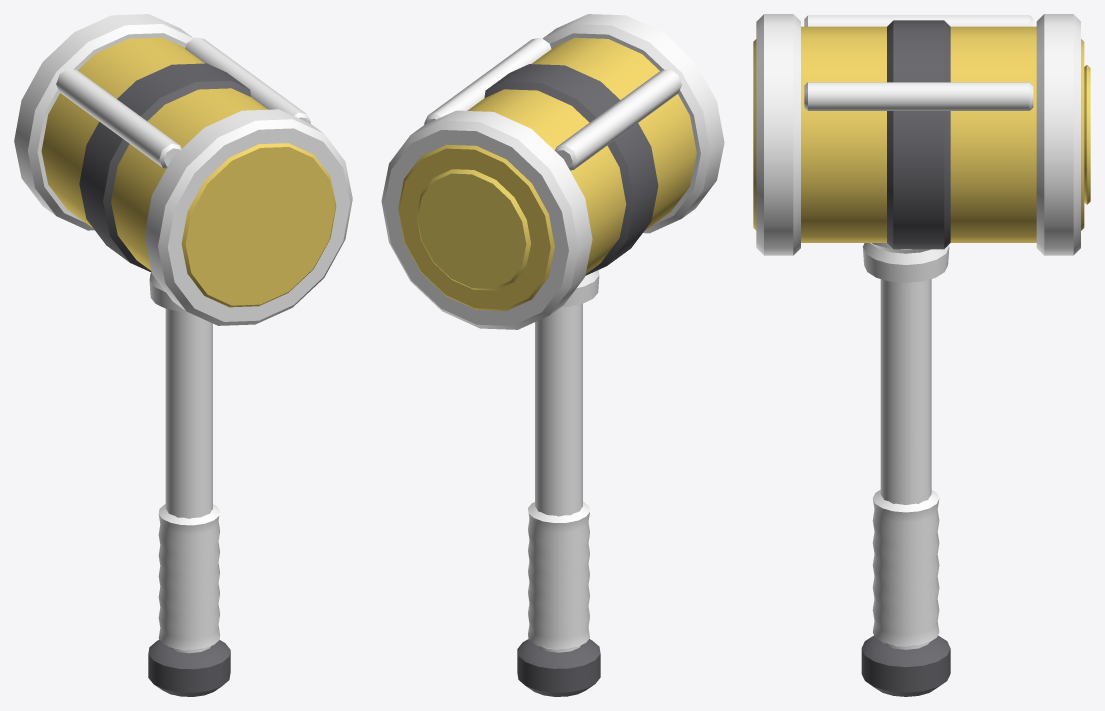
The model's file is WreckingMaul.glb.
3 views of the same model, side by side, from view 1: azimuth 30°, elevation 25°; view 2: azimuth 150°, elevation 25°; view 3: azimuth 270°, elevation 25° (orthographic). The views are drawn at different scales.
Parts seen in each view (by area): view 1: Base, Primary, AccentTrim; view 2: Base, Primary, AccentTrim, AccentGlow; view 3: Base, Primary, AccentTrim, AccentGlow.
Boxes of the visible parts, x1=… form: Base: x1=14, y1=14, x2=352, y2=653; Primary: x1=41, y1=37, x2=336, y2=307; AccentTrim: x1=79, y1=63, x2=250, y2=696; Base: x1=381, y1=14, x2=724, y2=652; Primary: x1=398, y1=37, x2=696, y2=310; AccentTrim: x1=484, y1=64, x2=658, y2=696; AccentGlow: x1=416, y1=169, x2=530, y2=290; Base: x1=756, y1=14, x2=1080, y2=649; Primary: x1=753, y1=26, x2=1084, y2=242; AccentTrim: x1=861, y1=20, x2=950, y2=696; AccentGlow: x1=1084, y1=65, x2=1090, y2=204.
Bounding box in the file's own units: 1.9 × 5.7 × 2.65.
